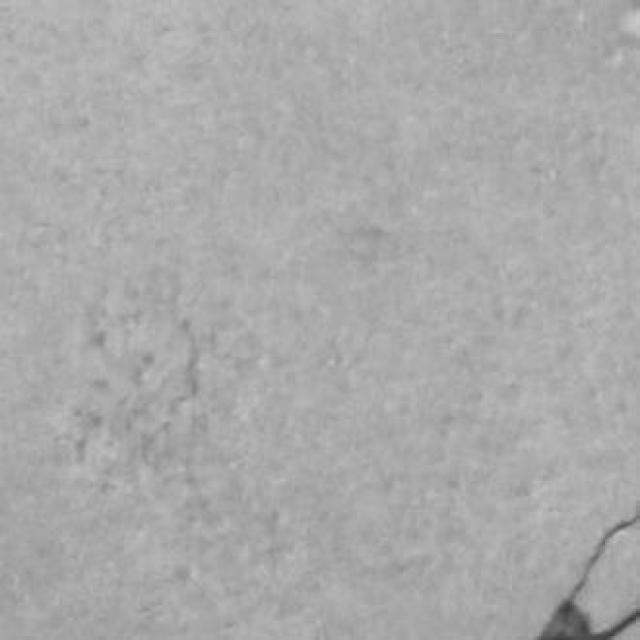crack: (538, 503, 639, 639)
